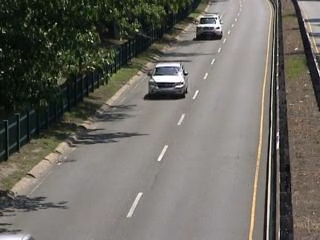car: (145, 60, 191, 101), (192, 12, 224, 45)
